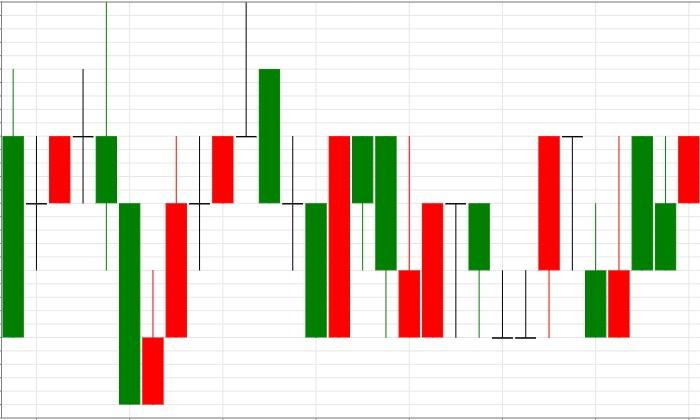bullish_engulfing_rise: (237, 2, 351, 338)
